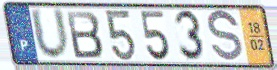3: (173, 9, 207, 64)
5: (102, 8, 138, 63), (138, 9, 171, 62)
B: (64, 10, 105, 60)
S: (206, 8, 245, 65)
U: (28, 6, 72, 63)
